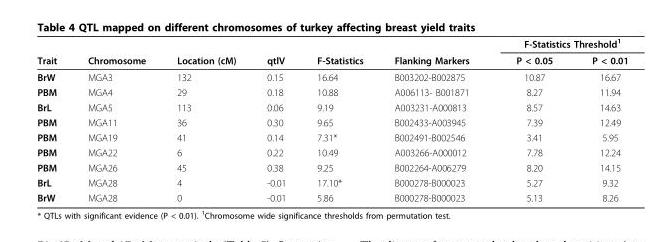table: (36, 36, 627, 203)
table column: (378, 36, 492, 203), (160, 36, 250, 203), (71, 36, 160, 203), (492, 36, 571, 203), (300, 36, 378, 203), (571, 36, 627, 203), (250, 36, 300, 203), (36, 36, 71, 203)
table column header: (36, 36, 627, 68)
table row: (36, 51, 627, 68), (36, 68, 627, 84), (36, 36, 627, 51), (36, 84, 627, 99), (36, 99, 627, 114), (36, 114, 627, 129), (36, 129, 627, 144), (36, 144, 627, 159), (36, 159, 627, 174), (36, 174, 627, 189), (36, 189, 627, 203)
table spanning cell: (378, 36, 492, 68), (160, 36, 250, 68), (71, 36, 160, 68), (300, 36, 378, 68), (492, 36, 627, 51), (250, 36, 300, 68), (36, 36, 71, 68)
